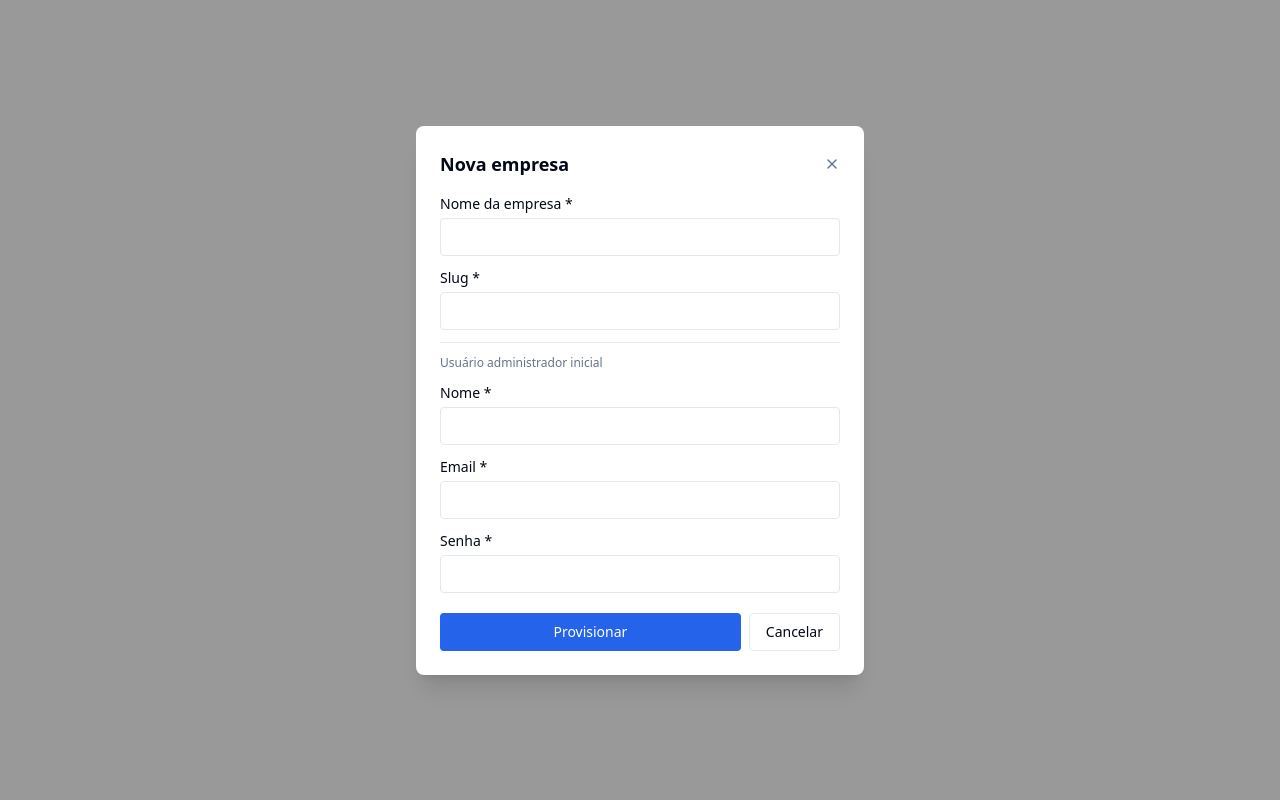
CompanyProvisionModal › slug é gerado automaticamente a partir do nome
In the field below "Nome da empresa *": point(640, 236) x1=440 y1=218 x2=840 y2=256, type "Acme Corporation"
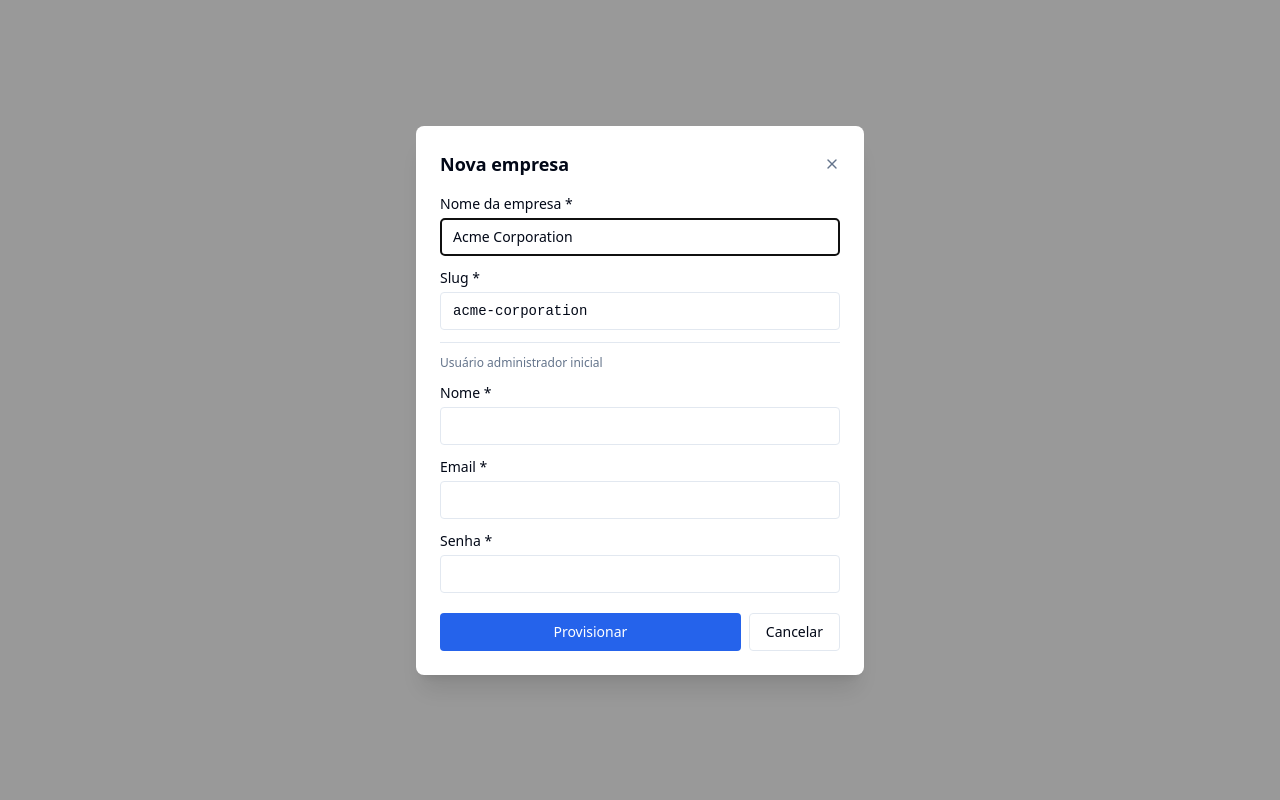
Expected: the field below "Slug *" holds "acme-corporation", x1=440 y1=292 x2=840 y2=330
